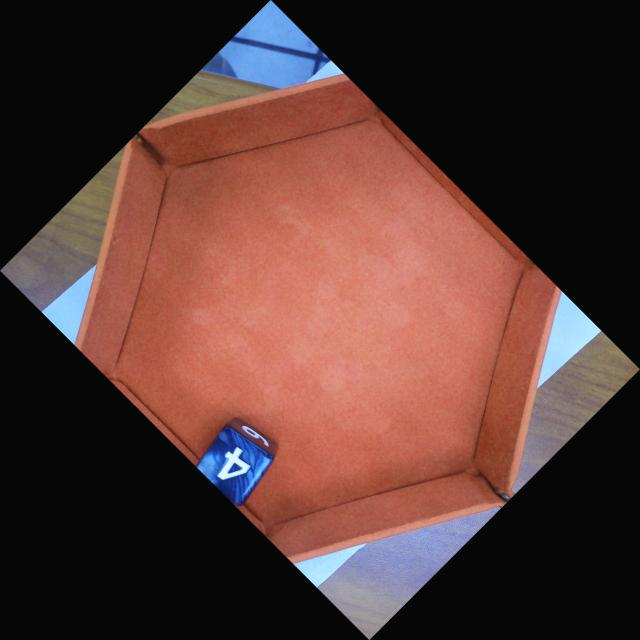dice: (193, 421, 275, 506)
